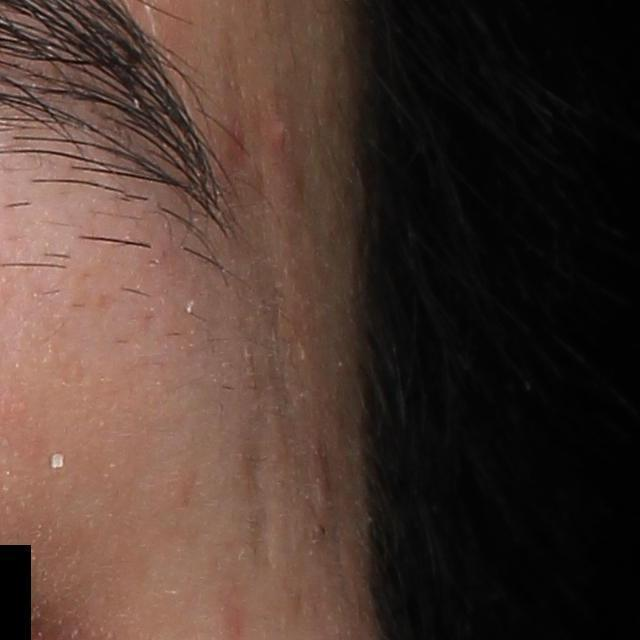atrophic_scar: (240, 416, 288, 574)
papule: (263, 106, 292, 154)
